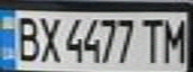4: (81, 15, 103, 63), (63, 15, 84, 63)
7: (96, 16, 121, 64), (115, 16, 139, 64)
B: (9, 12, 42, 63)
M: (157, 15, 190, 64)
T: (136, 16, 166, 64)
X: (36, 12, 63, 64)
